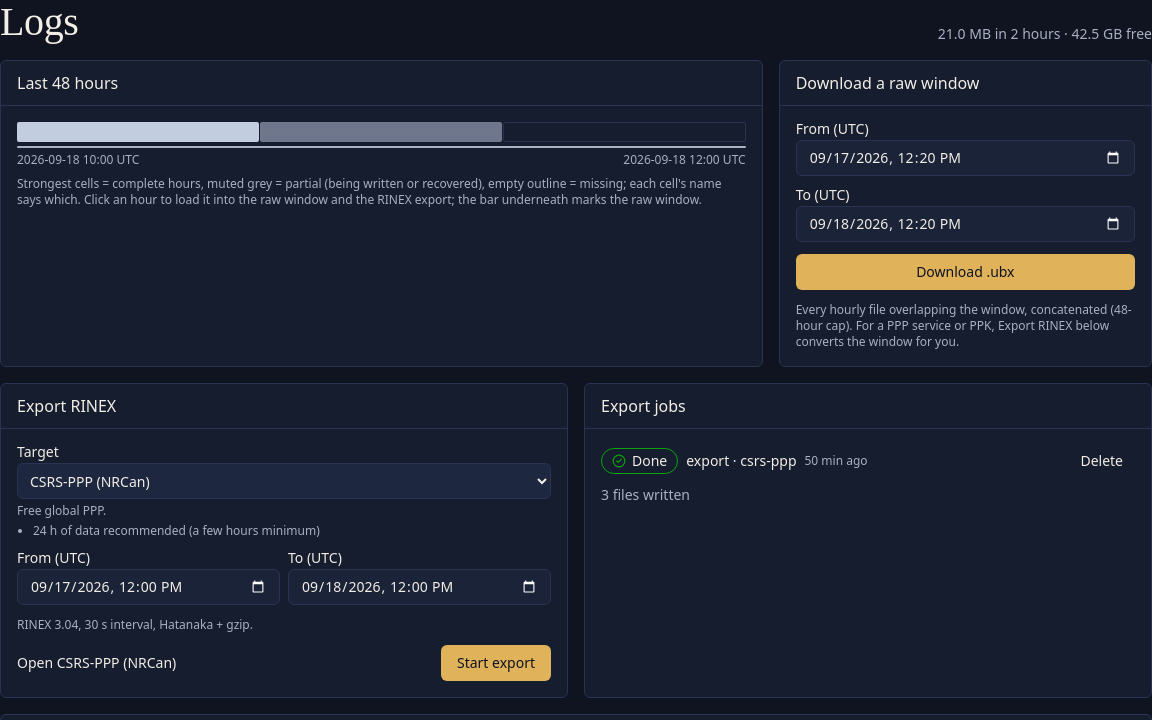
it: Logs page — jobs › drops a deleted job that the live slice still holds
Expected: the text "3 files written" is shown, [601, 485, 690, 504]
Click the button "Delete". click: (1102, 461)
box: [1068, 445, 1135, 477]
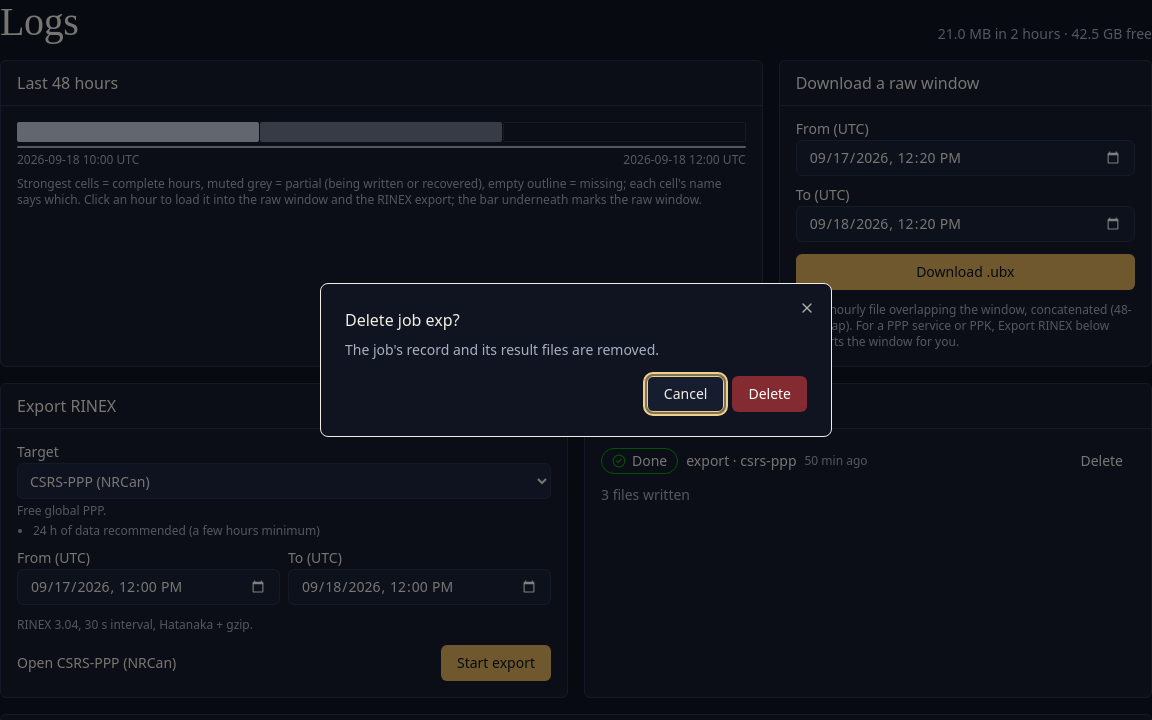
Click the button "Delete". click: (770, 394)
box: [732, 376, 807, 412]
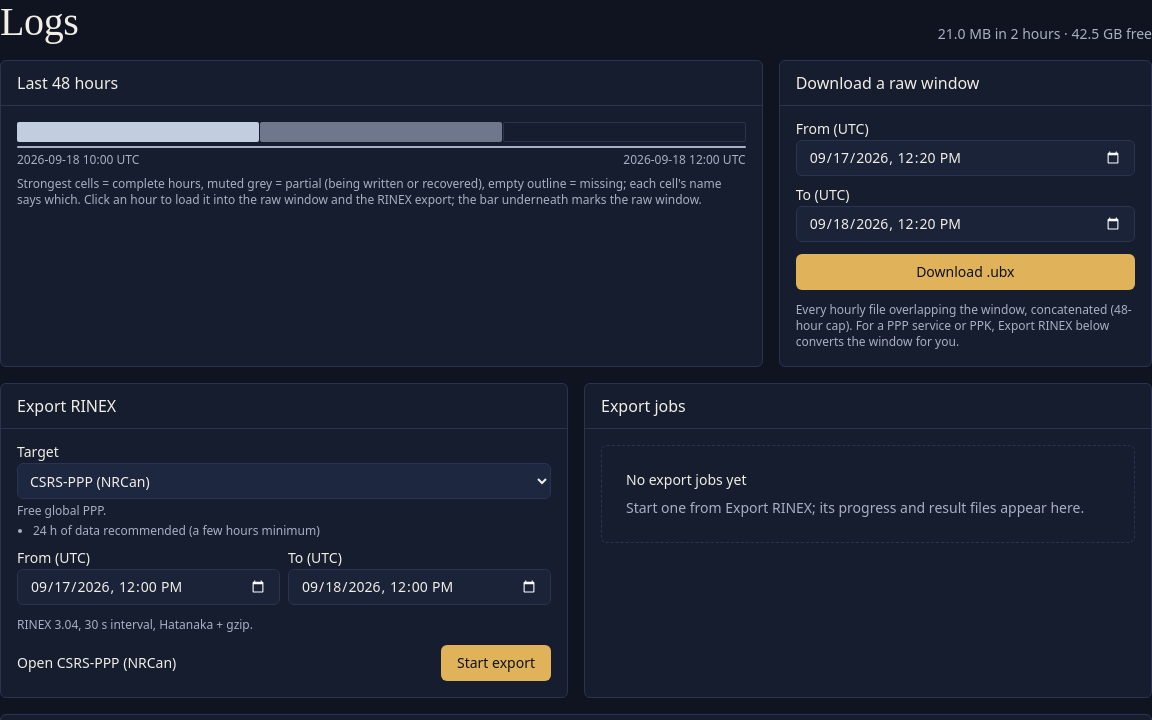
Expected: the text "3 files written" is gone
Expected: the text "No export jobs yet" is shown, [626, 470, 746, 490]
